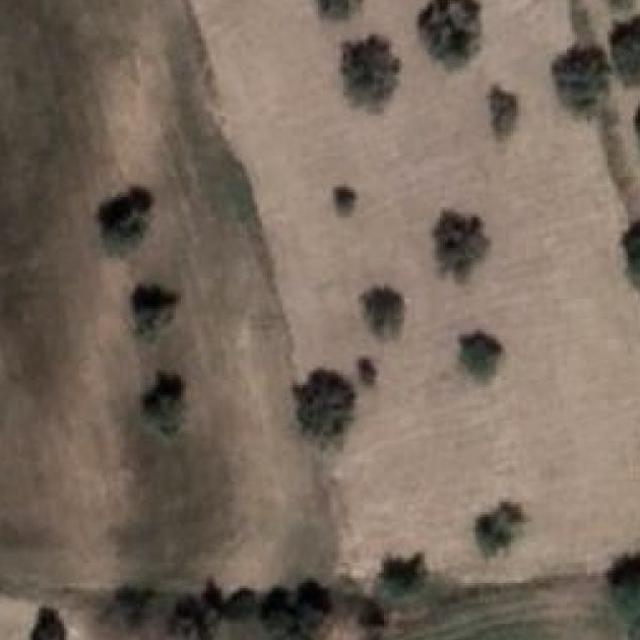Tree: (544, 43, 612, 120), (338, 30, 404, 106), (420, 0, 486, 71), (101, 187, 157, 258), (294, 375, 354, 439), (429, 210, 488, 272), (135, 373, 188, 441), (476, 500, 528, 566), (455, 329, 508, 388), (130, 284, 181, 342), (376, 552, 430, 606), (356, 286, 409, 341), (96, 584, 154, 634), (604, 13, 640, 90), (601, 552, 640, 616), (168, 590, 214, 640), (482, 80, 518, 137), (19, 603, 67, 640), (623, 217, 640, 306), (215, 588, 252, 625), (330, 182, 364, 219), (308, 0, 364, 22), (353, 353, 384, 387), (301, 576, 328, 614), (260, 586, 293, 617), (633, 96, 640, 166), (361, 626, 379, 640)
